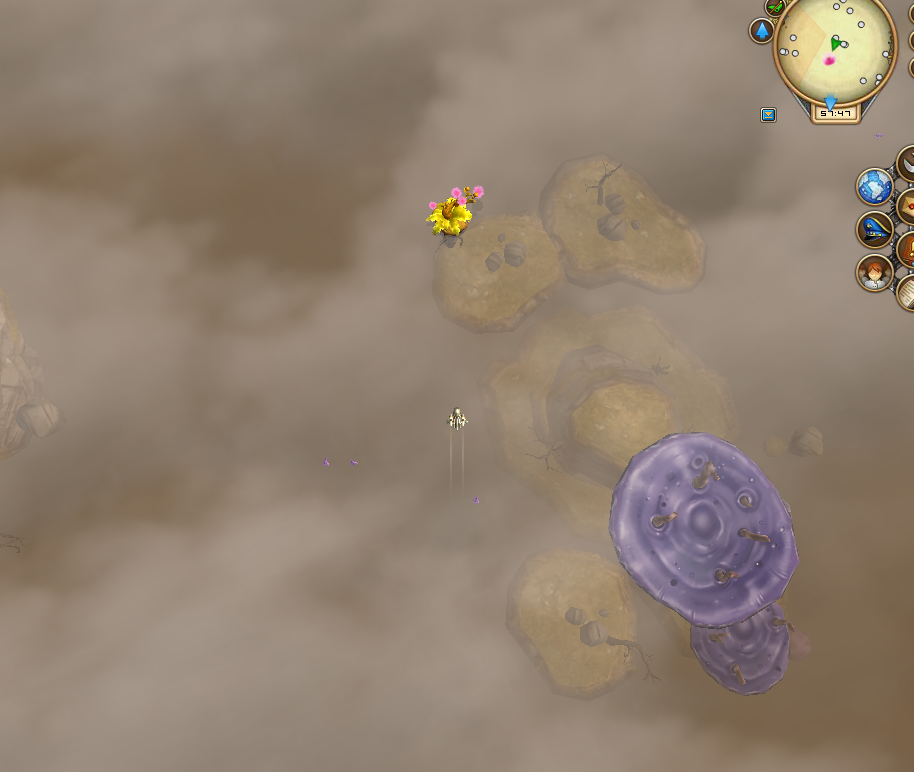dandelion-full: (421, 177, 486, 250)
